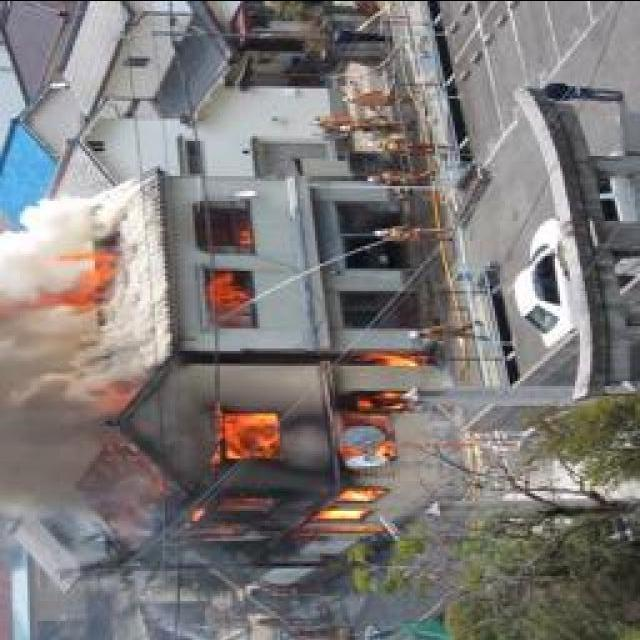Fire: (161, 341, 433, 543), (17, 232, 116, 318), (204, 204, 264, 327)
